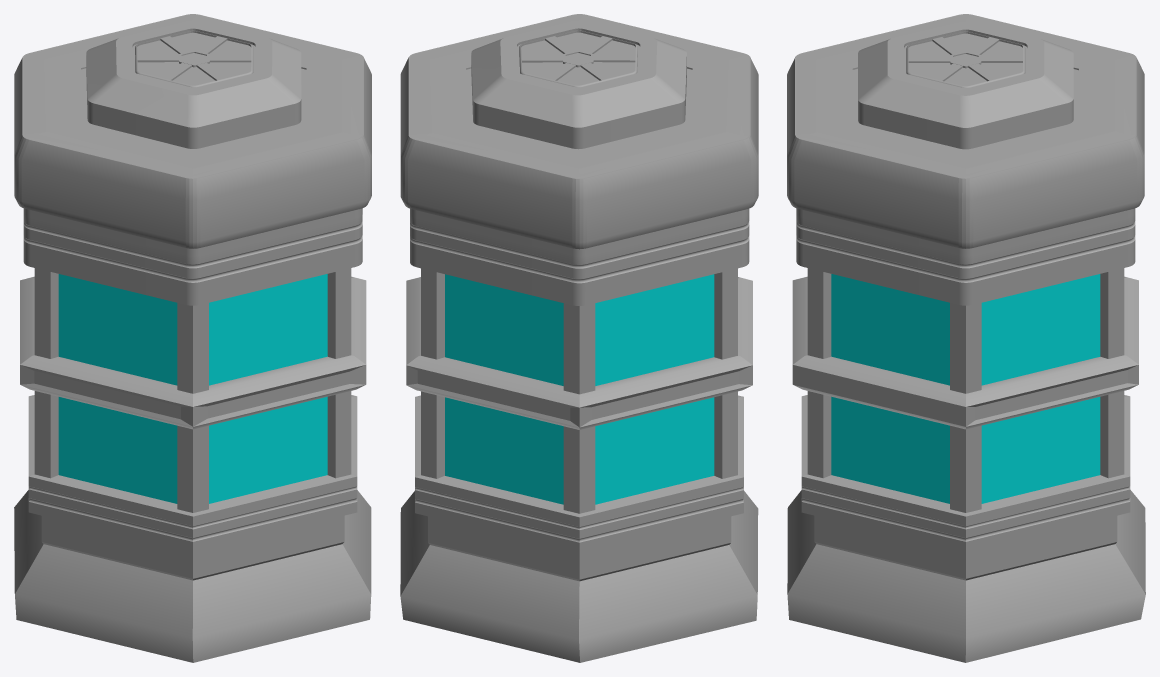
File: PowerReactorNoSupport.fbx
3 renders of one model, left to right at view 1: azimuth 30°, elevation 25°; view 2: azimuth 150°, elevation 25°; view 3: azimuth 270°, elevation 25°, orthographic.
Parts seen in each view (by area): view 1: PowerReactor; view 2: PowerReactor; view 3: PowerReactor.
Boxes of the visible parts, x1,y1,x2,y2 form: PowerReactor: (14, 14, 371, 662); PowerReactor: (400, 14, 758, 662); PowerReactor: (787, 14, 1145, 662).
Size of the model in its own units: 2.73 by 3.79 by 2.38.
